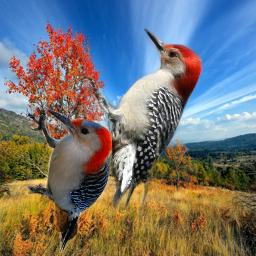Woodpecker: (75, 24, 208, 218), (28, 109, 112, 253)
